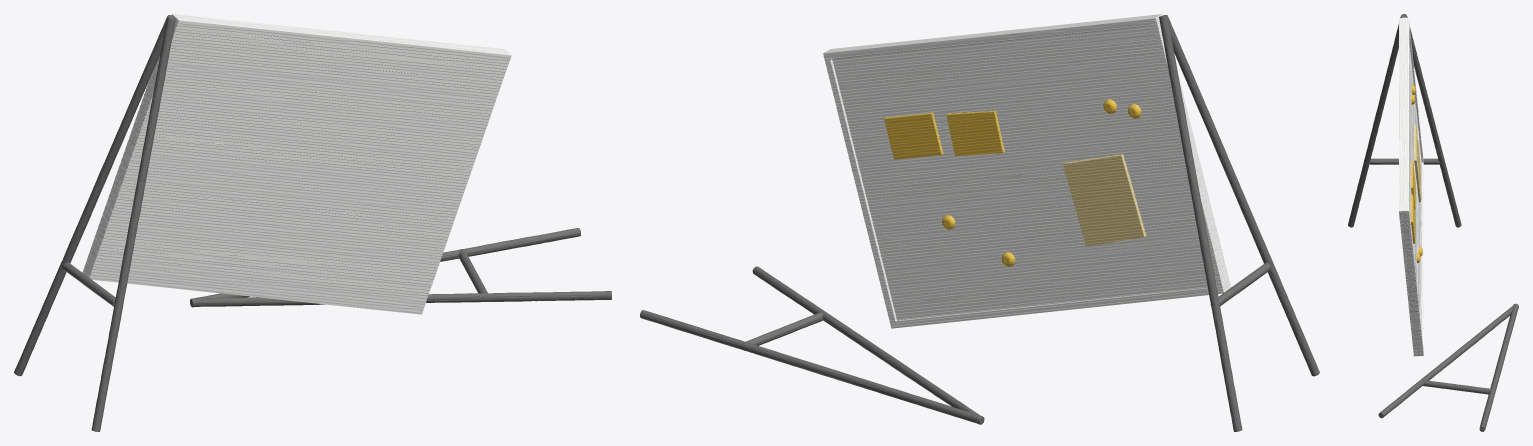
The model's file is whiteboard_kaputt.glb.
3 views of the same model, side by side, from view 1: azimuth 30°, elevation 25°; view 2: azimuth 150°, elevation 25°; view 3: azimuth 270°, elevation 25° (orthographic). The views are drawn at different scales.
Parts seen in each view (by area): view 1: 283575_23_05_25_14_16_04_1, 283575_23_05_25_14_16_04_0; view 2: 283575_23_05_25_14_16_04_1, 283575_23_05_25_14_16_04_0; view 3: 283575_23_05_25_14_16_04_1, 283575_23_05_25_14_16_04_0.
Boxes of the visible parts, box(x1,y1,x2,y2) form: 283575_23_05_25_14_16_04_1: box(82, 14, 511, 314); 283575_23_05_25_14_16_04_0: box(14, 15, 611, 431); 283575_23_05_25_14_16_04_1: box(823, 14, 1231, 328); 283575_23_05_25_14_16_04_0: box(640, 15, 1319, 431); 283575_23_05_25_14_16_04_1: box(1399, 17, 1423, 356); 283575_23_05_25_14_16_04_0: box(1348, 14, 1518, 431).
Bounding box in the file's own units: 9.29 × 5.72 × 3.41.
2 materials, 2 textured.
